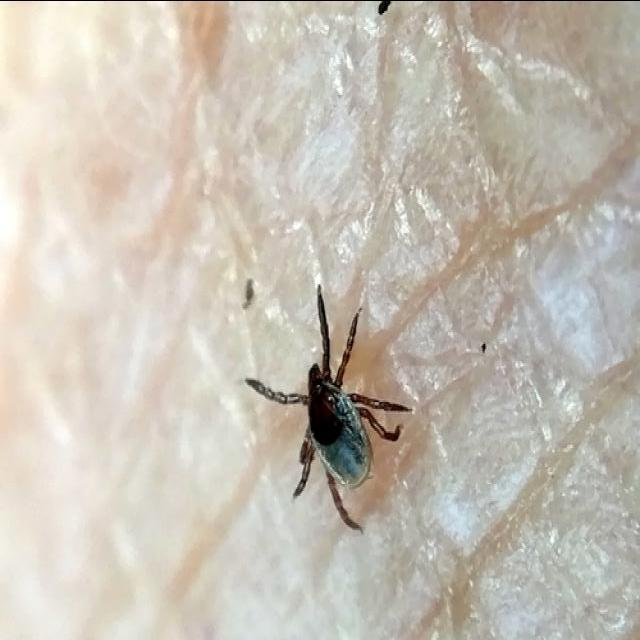Ixodes Ricinus-M: (247, 287, 408, 532)
